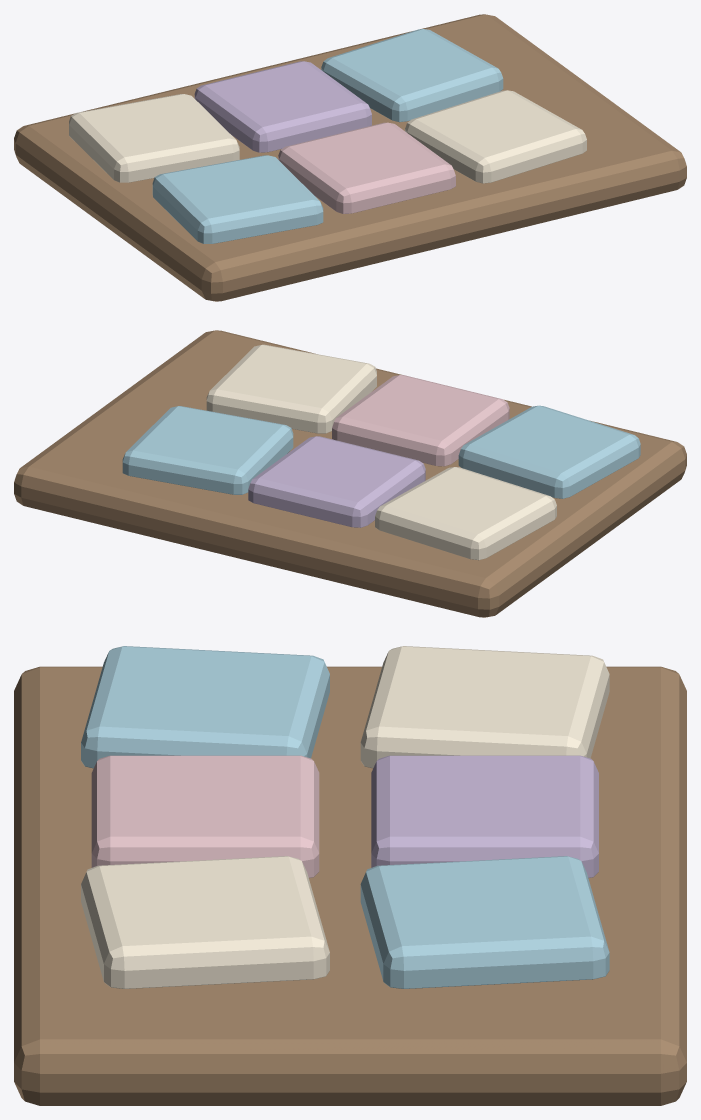
File: dolly-puzzle.glb
3 views of the same model, one above another, from view 1: azimuth 30°, elevation 25°; view 2: azimuth 150°, elevation 25°; view 3: azimuth 270°, elevation 25° (orthographic). The views are drawn at different scales.
Parts seen in each view (by area): view 1: puzzle frame; view 2: puzzle frame; view 3: puzzle frame.
Part boxes in pixels (x1,y1,x2,y2): puzzle frame: (14, 14, 686, 301); puzzle frame: (14, 330, 686, 617); puzzle frame: (14, 646, 686, 1105).
Bounding box in the file's own units: 0.9 × 0.1075 × 0.65.
